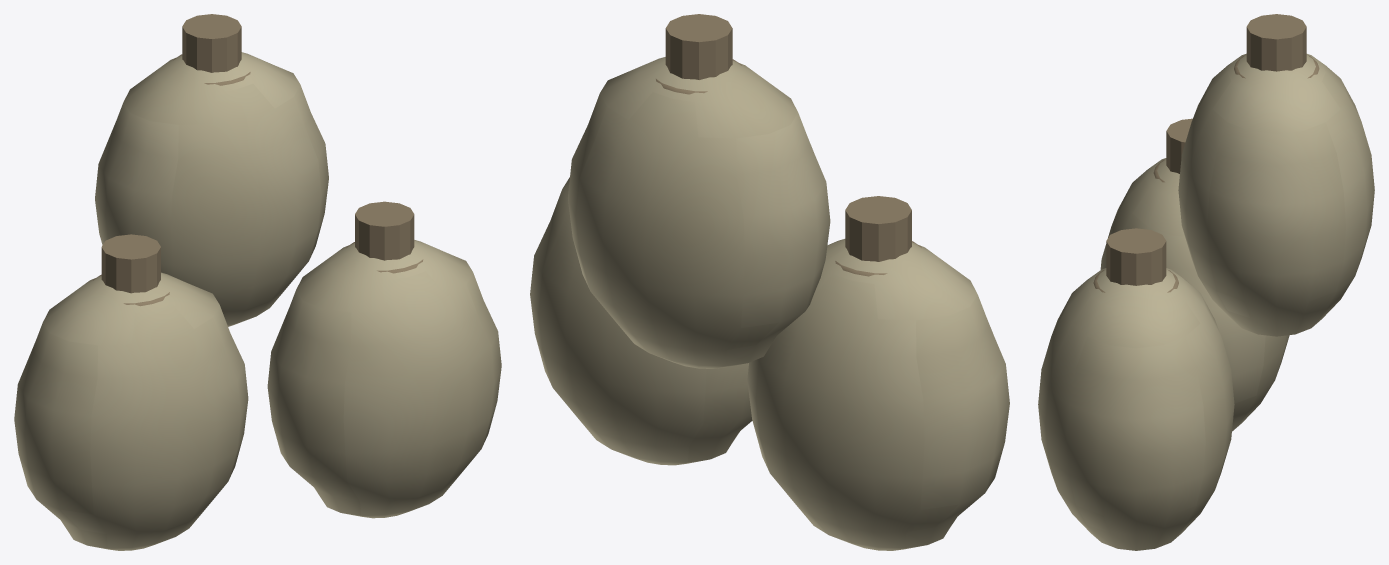
File: prop_sacks.glb
3 views of the same model, side by side, from view 1: azimuth 30°, elevation 25°; view 2: azimuth 150°, elevation 25°; view 3: azimuth 270°, elevation 25° (orthographic). The views are drawn at different scales.
Visible parts, largest first — view 1: linen_cargo_sack, tied_neck; view 2: linen_cargo_sack, tied_neck; view 3: linen_cargo_sack, tied_neck.
Boxes of the visible parts, x1,y1,x2,y2 form: linen_cargo_sack: [14, 52, 501, 550]; tied_neck: [93, 14, 423, 306]; linen_cargo_sack: [530, 57, 1009, 550]; tied_neck: [656, 14, 921, 276]; linen_cargo_sack: [1038, 53, 1374, 550]; tied_neck: [1093, 14, 1319, 292].
Size of the model in its own units: 2.54 by 2.55 by 1.68.
2 materials, 1 textured.
